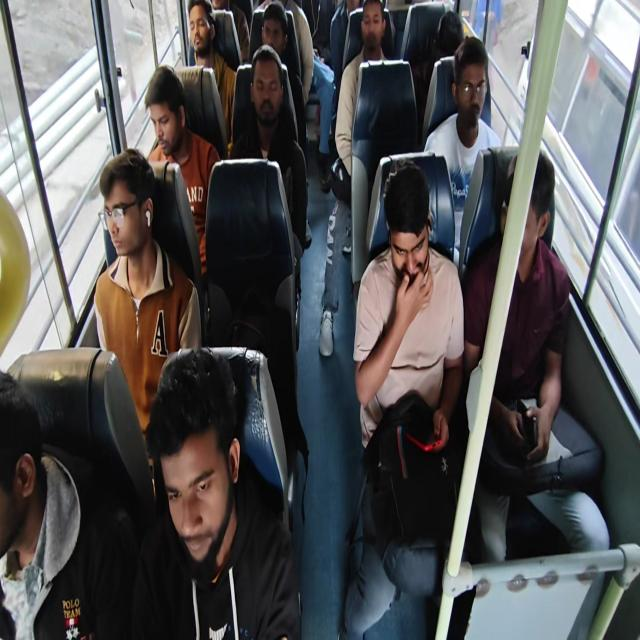person: (462, 148, 610, 636), (344, 159, 466, 637), (131, 346, 301, 639), (0, 368, 134, 639), (93, 148, 202, 448), (317, 0, 389, 356), (423, 35, 502, 255), (229, 44, 309, 251), (144, 65, 221, 278), (332, 0, 389, 202), (186, 0, 237, 144), (260, 1, 308, 148), (329, 0, 362, 113), (210, 0, 250, 64)
